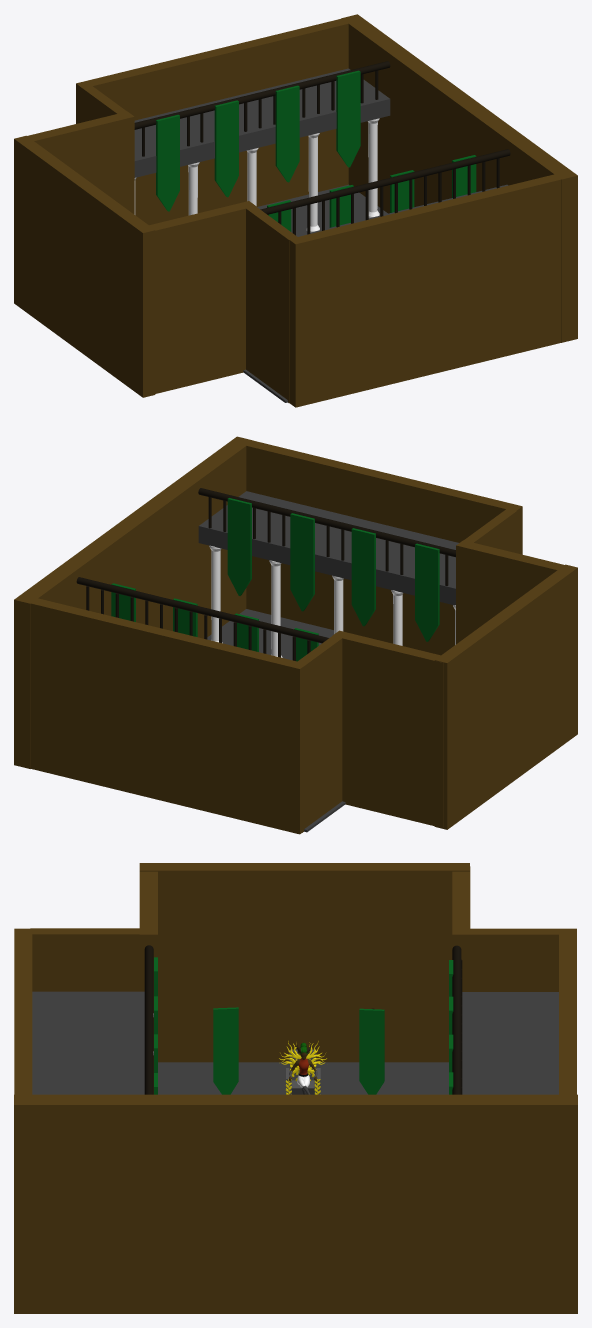
Rendered from final project.obj.
3 renders of one model, top to bottom at view 1: azimuth 30°, elevation 25°; view 2: azimuth 150°, elevation 25°; view 3: azimuth 270°, elevation 25°, orthographic. The views are drawn at different scales.
Parts seen in each view (by area): view 1: pasted__pasted__pasted__pasted__pCube4 pasted__pasted__pasted__p, pCube2, pasted__pCube20 pasted__pCube19, pasted__pCube21, pasted__pCube7 pasted__pCube8 pasted__pCube9 pasted__pCube10 pas, pasted__pCube4 pasted__pCube18, pasted__pCube5 pasted__pCube17, pCylinder1 pCylinder2, pasted__pCylinder3 pasted__pCylinder1 pasted__pCylinder5 pasted_, pasted__pasted__pCylinder2 pasted__pasted__pCylinder3 pasted__pa, pCube1; view 2: pasted__pasted__pasted__pasted__pCube4 pasted__pasted__pasted__p, pCube2, pasted__pCube20 pasted__pCube19, pasted__pCube21, pasted__pCube7 pasted__pCube8 pasted__pCube9 pasted__pCube10 pas, pasted__pCube5 pasted__pCube17, pasted__pCube4 pasted__pCube18, pCylinder1 pCylinder2, pasted__pCylinder3 pasted__pCylinder1 pasted__pCylinder5 pasted_, pasted__pasted__pCylinder2 pasted__pasted__pCylinder3 pasted__pa, pCube1; view 3: pasted__pCube21, pCube2, pasted__pCube5 pasted__pCube17, pasted__pCube4 pasted__pCube18, pCube1, pasted__pasted__pasted__pasted__pCube4 pasted__pasted__pasted__p, pasted__pCube7 pasted__pCube8 pasted__pCube9 pasted__pCube10 pas, pasted__pCube20 pasted__pCube19, pCylinder1 pCylinder2, polySurface7, polySurface3, group1_pasted__pCube3.
Part boxes in pixels (left/top/right/bottom): pasted__pasted__pasted__pasted__pCube4 pasted__pasted__pasted__p: left=76, top=15, right=574, bottom=407; pCube2: left=14, top=135, right=155, bottom=397; pasted__pCube20 pasted__pCube19: left=27, top=111, right=256, bottom=393; pasted__pCube21: left=341, top=14, right=577, bottom=342; pasted__pCube7 pasted__pCube8 pasted__pCube9 pasted__pCube10 pas: left=156, top=70, right=476, bottom=231; pasted__pCube4 pasted__pCube18: left=78, top=82, right=298, bottom=402; pasted__pCube5 pasted__pCube17: left=134, top=68, right=508, bottom=236; pCylinder1 pCylinder2: left=134, top=61, right=510, bottom=214; pasted__pCylinder3 pasted__pCylinder1 pasted__pCylinder5 pasted_: left=134, top=118, right=379, bottom=232; pasted__pasted__pCylinder2 pasted__pasted__pCylinder3 pasted__pa: left=142, top=70, right=499, bottom=235; pCube1: left=243, top=184, right=387, bottom=402; pasted__pasted__pasted__pasted__pCube4 pasted__pasted__pasted__p: left=15, top=437, right=522, bottom=834; pCube2: left=434, top=564, right=577, bottom=829; pasted__pCube20 pasted__pCube19: left=332, top=540, right=564, bottom=828; pasted__pCube21: left=14, top=436, right=253, bottom=768; pasted__pCube7 pasted__pCube8 pasted__pCube9 pasted__pCube10 pas: left=111, top=498, right=439, bottom=661; pasted__pCube5 pasted__pCube17: left=198, top=491, right=458, bottom=605; pasted__pCube4 pasted__pCube18: left=293, top=509, right=516, bottom=832; pCylinder1 pCylinder2: left=76, top=488, right=455, bottom=643; pasted__pCylinder3 pasted__pCylinder1 pasted__pCylinder5 pasted_: left=209, top=545, right=455, bottom=657; pasted__pasted__pCylinder2 pasted__pasted__pCylinder3 pasted__pa: left=86, top=497, right=448, bottom=660; pCube1: left=207, top=609, right=345, bottom=832; pasted__pCube21: left=14, top=1094, right=577, bottom=1313; pCube2: left=139, top=863, right=469, bottom=1062; pasted__pCube5 pasted__pCube17: left=32, top=991, right=558, bottom=1094; pasted__pCube4 pasted__pCube18: left=30, top=928, right=570, bottom=991; pCube1: left=158, top=1062, right=448, bottom=1094; pasted__pasted__pasted__pasted__pCube4 pasted__pasted__pasted__p: left=14, top=928, right=576, bottom=1104; pasted__pCube7 pasted__pCube8 pasted__pCube9 pasted__pCube10 pas: left=154, top=957, right=453, bottom=1094; pasted__pCube20 pasted__pCube19: left=139, top=866, right=470, bottom=1094; pCylinder1 pCylinder2: left=144, top=945, right=461, bottom=1094; polySurface7: left=289, top=1042, right=317, bottom=1094; polySurface3: left=279, top=1041, right=326, bottom=1081; group1_pasted__pCube3: left=286, top=1049, right=320, bottom=1094.
Size of the model in its own units: 156 by 63.46 by 154.
